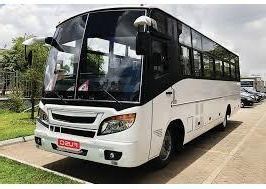bus: (35, 5, 241, 172)
